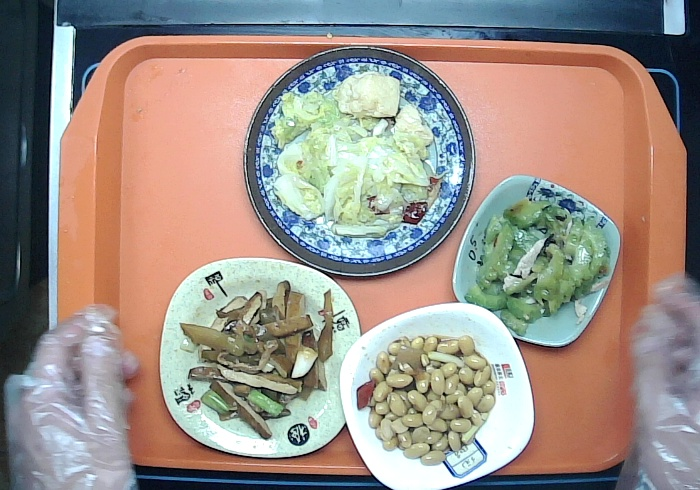NLDX-Bai_Se_Xiao_Fang_Die: (334, 298, 538, 490)
NLDX-Fu_Zi_Fang_Die: (155, 255, 366, 464)
NLDX-Qing_Hua_Xiao_Fang_Die: (448, 172, 624, 353)
NLDX-Qing_Hua_Yuan_Die: (238, 42, 478, 285)
